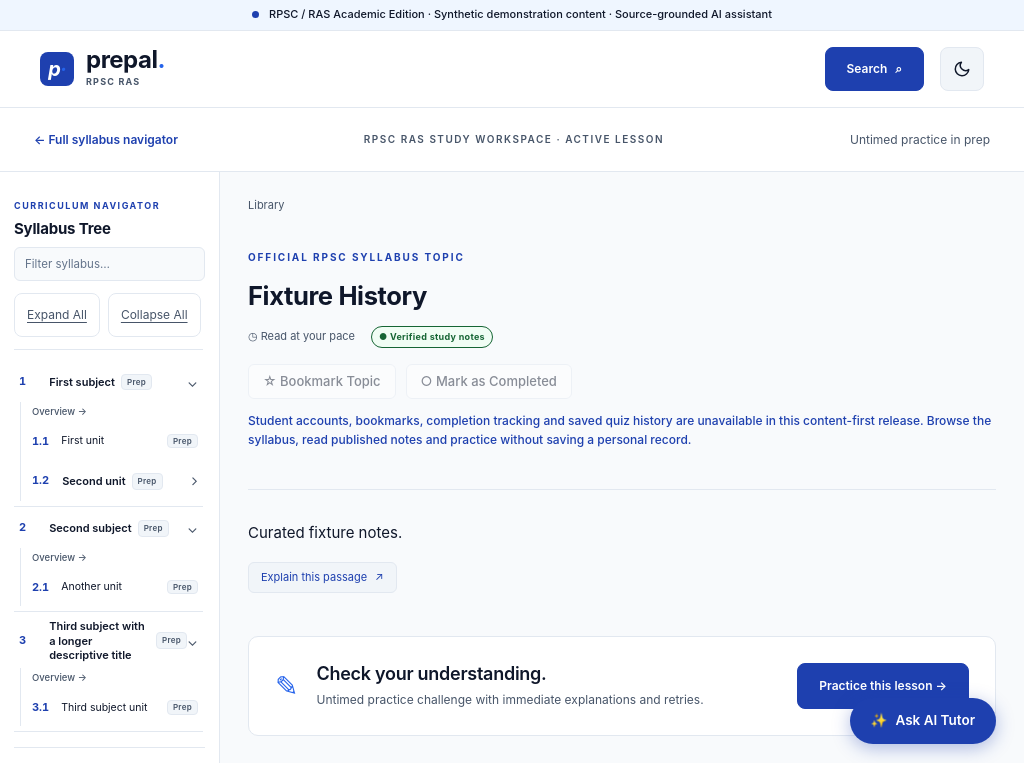
Scenario: reader sidebar filtering preserves original numbering and the current topic route
expect the text "Curated fixture notes." is shown: met, box left=248, top=523, right=402, bottom=542
In the search field named "Filter sidebar syllabus": x=110, y=264 left=14, top=246, right=205, bottom=281, type "Fifth subject unit"
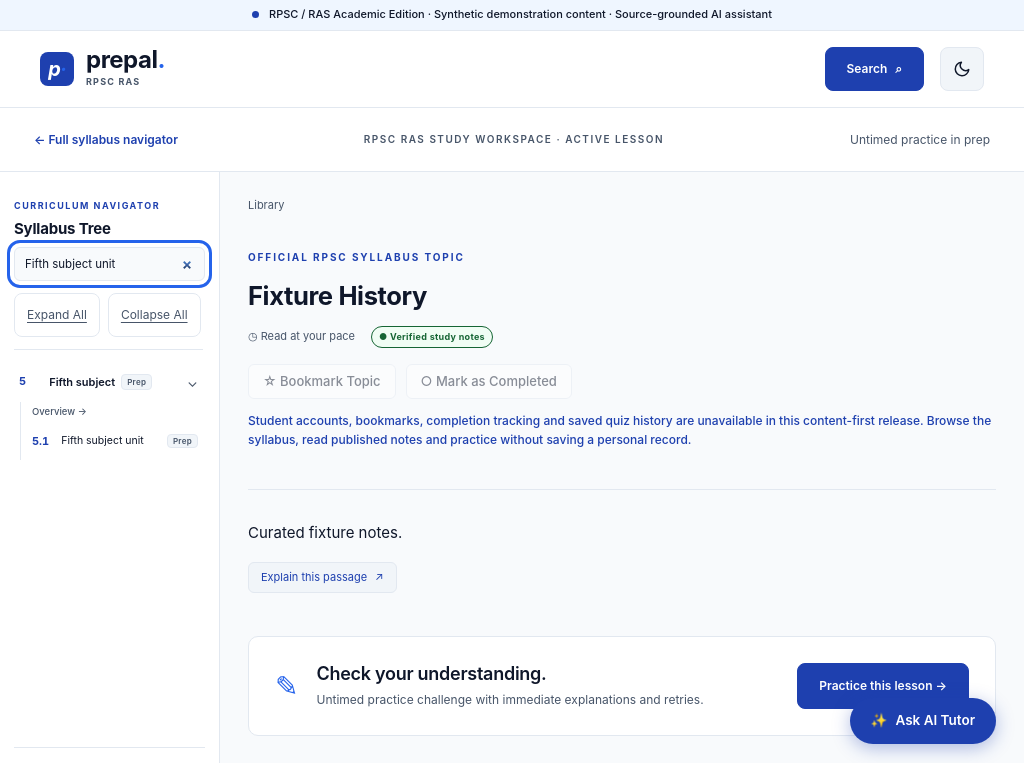
expect the number of elements with class "tree-number" is 2: met, box left=19, top=374, right=26, bottom=388; left=32, top=434, right=49, bottom=448
